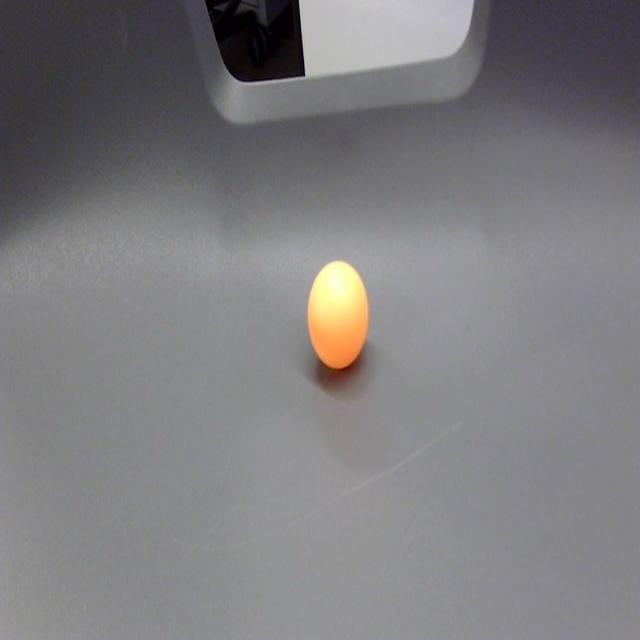ball: (304, 256, 374, 375)
